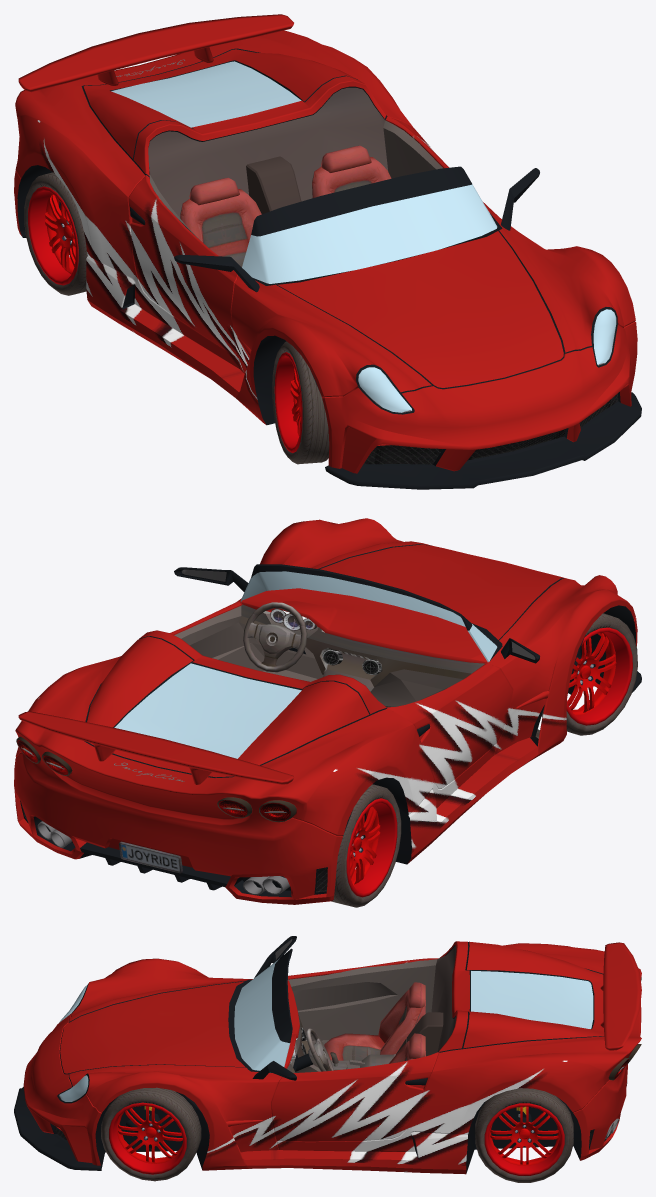
File: car.fbx
3 renders of one model, top to bottom at view 1: azimuth 30°, elevation 25°; view 2: azimuth 150°, elevation 25°; view 3: azimuth 270°, elevation 25°, orthographic. The views are drawn at different scales.
Parts seen in each view (by area): view 1: node_id161, node_id167, node_id159, node_id163, node_id153, node_id224, node_id145, node_id204, node_id133, node_id181, node_id129, node_id200 (+7 smaller); view 2: node_id161, node_id167, node_id159, node_id163, node_id224, node_id129, node_id145, node_id155, node_id153, node_id208, node_id143, node_id210 (+5 smaller); view 3: node_id161, node_id159, node_id167, node_id163, node_id224, node_id151, node_id135, node_id204, node_id139, node_id153, node_id149, node_id147 (+6 smaller).
Boxes of the visible parts, bbox=[...] form: node_id161: bbox=[14, 30, 637, 473]; node_id167: bbox=[111, 61, 616, 412]; node_id159: bbox=[148, 87, 442, 241]; node_id163: bbox=[17, 48, 620, 466]; node_id153: bbox=[149, 177, 641, 489]; node_id224: bbox=[18, 14, 293, 92]; node_id145: bbox=[28, 186, 78, 285]; node_id204: bbox=[180, 189, 261, 267]; node_id133: bbox=[281, 341, 329, 464]; node_id181: bbox=[149, 167, 618, 464]; node_id129: bbox=[274, 352, 302, 452]; node_id200: bbox=[312, 157, 391, 197]; node_id161: bbox=[14, 518, 637, 904]; node_id167: bbox=[114, 571, 497, 758]; node_id159: bbox=[174, 604, 484, 707]; node_id163: bbox=[20, 544, 635, 897]; node_id224: bbox=[18, 711, 294, 784]; node_id129: bbox=[566, 627, 632, 725]; node_id145: bbox=[346, 798, 397, 897]; node_id155: bbox=[16, 736, 296, 822]; node_id153: bbox=[80, 671, 641, 890]; node_id208: bbox=[247, 622, 300, 666]; node_id143: bbox=[331, 784, 395, 907]; node_id210: bbox=[243, 602, 307, 672]; node_id161: bbox=[23, 941, 641, 1174]; node_id159: bbox=[287, 946, 456, 1072]; node_id167: bbox=[59, 958, 593, 1101]; node_id163: bbox=[50, 942, 610, 1173]; node_id224: bbox=[600, 942, 641, 1050]; node_id151: bbox=[484, 1103, 564, 1175]; node_id135: bbox=[109, 1102, 186, 1174]; node_id204: bbox=[324, 989, 425, 1060]; node_id139: bbox=[101, 1087, 201, 1181]; node_id153: bbox=[14, 1087, 101, 1170]; node_id149: bbox=[475, 1088, 573, 1182]; node_id147: bbox=[479, 1099, 569, 1180].
Size of the model in its own units: 0.512 by 0.2439 by 0.9632.
62 materials, 62 textured.
